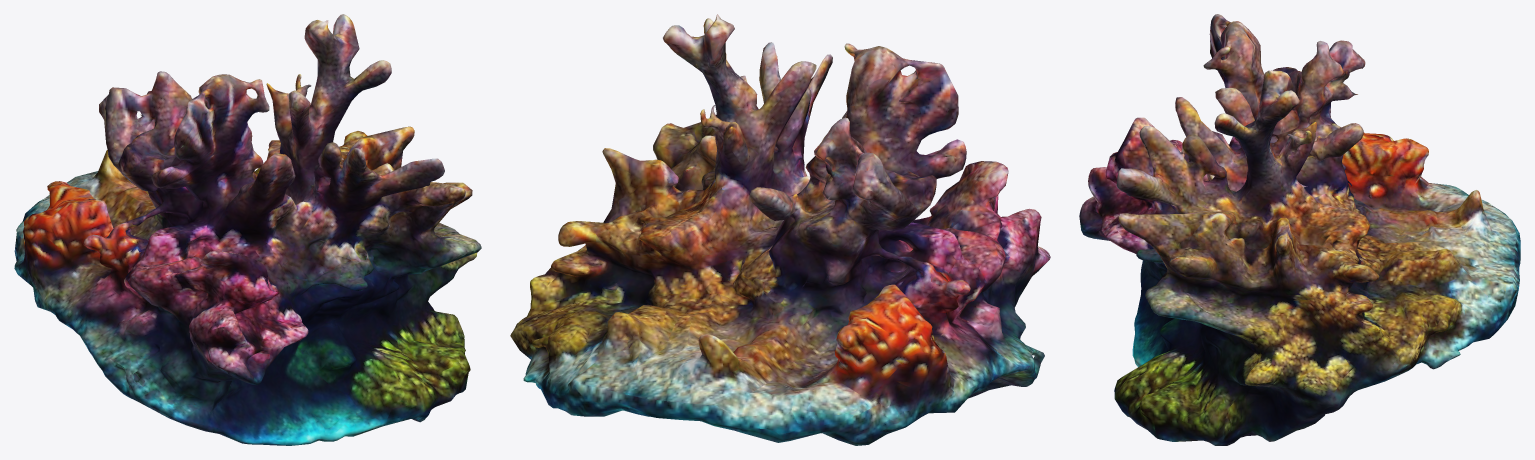
Rendered from coral_reef_3_l.glb.
3 renders of one model, left to right at view 1: azimuth 30°, elevation 25°; view 2: azimuth 150°, elevation 25°; view 3: azimuth 270°, elevation 25°, orthographic. The views are drawn at different scales.
Visible parts, largest first — view 1: Object_4; view 2: Object_4; view 3: Object_4.
Boxes of the visible parts, x1,y1,x2,y2 form: Object_4: [14, 14, 481, 445]; Object_4: [510, 14, 1050, 445]; Object_4: [1079, 14, 1520, 445].
Bounding box in the file's own units: 1.57 × 1.36 × 1.6.
1 material, 1 textured.
